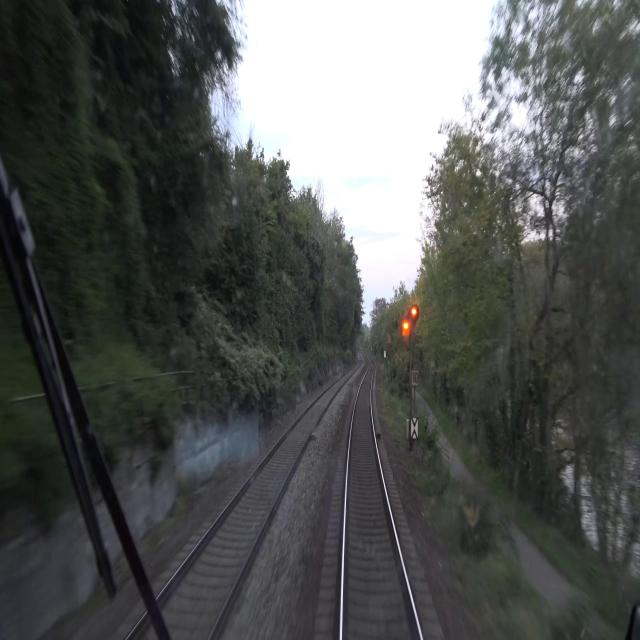rail-track: (171, 380, 342, 639), (344, 362, 419, 639)
